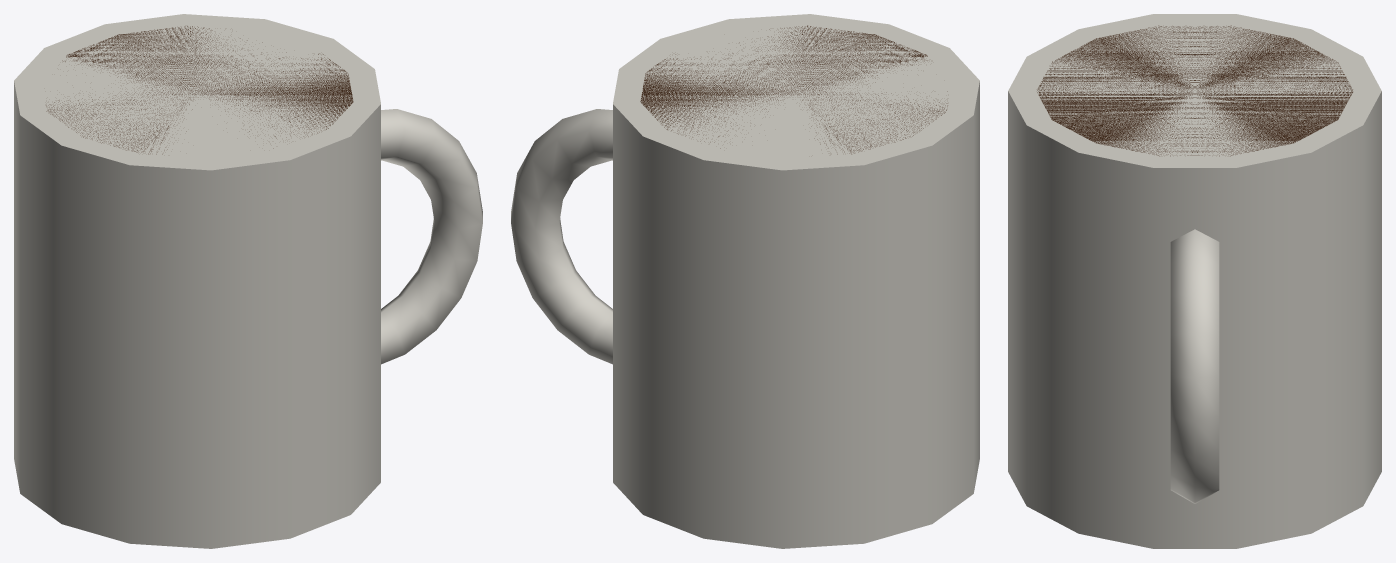
File: acc_mug.glb
3 renders of one model, left to right at view 1: azimuth 30°, elevation 25°; view 2: azimuth 150°, elevation 25°; view 3: azimuth 270°, elevation 25°, orthographic.
Visible parts, largest first — view 1: acc.mug; view 2: acc.mug; view 3: acc.mug.
Part boxes in pixels (left/top/right/bottom): acc.mug: left=14, top=14, right=482, bottom=548; acc.mug: left=511, top=14, right=979, bottom=548; acc.mug: left=1008, top=14, right=1381, bottom=548.
Bounding box in the file's own units: 0.11 × 0.09 × 0.08.
